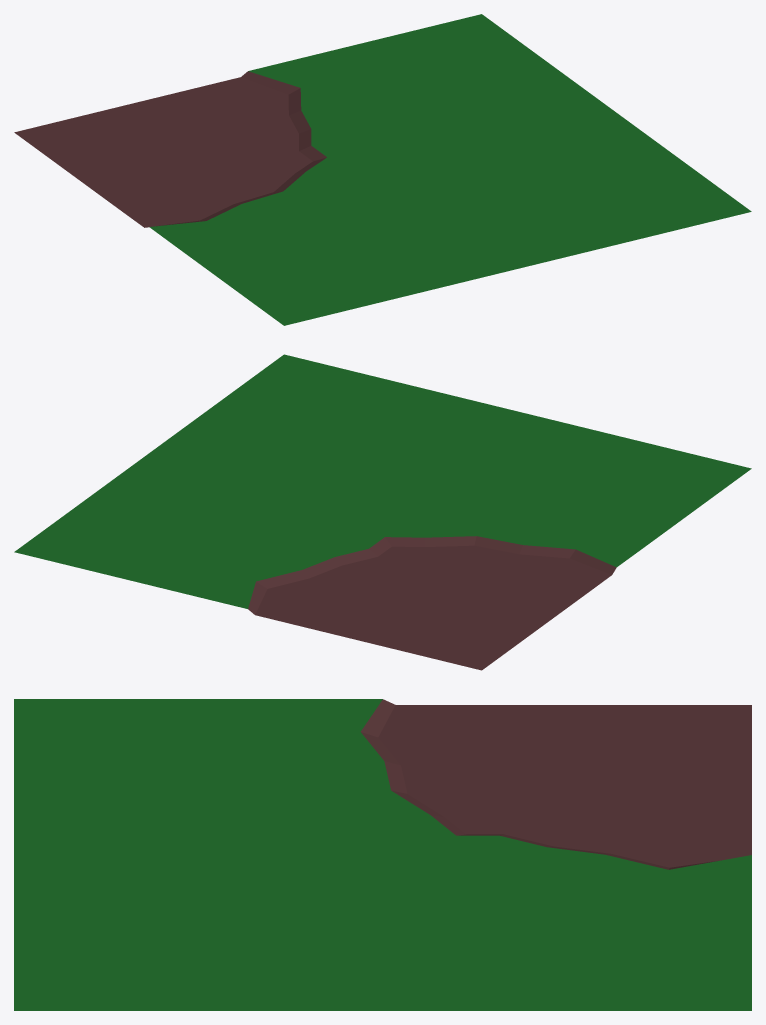
The model's file is Cesped_Barro_Esquina.fbx.
3 views of the same model, one above another, from view 1: azimuth 30°, elevation 25°; view 2: azimuth 150°, elevation 25°; view 3: azimuth 270°, elevation 25° (orthographic). The views are drawn at different scales.
Visible parts, largest first — view 1: Cesped_Barro_Esquina; view 2: Cesped_Barro_Esquina; view 3: Cesped_Barro_Esquina.
Boxes of the visible parts, x1,y1,x2,y2 form: Cesped_Barro_Esquina: [14, 14, 751, 325]; Cesped_Barro_Esquina: [14, 354, 751, 670]; Cesped_Barro_Esquina: [14, 699, 751, 1010].
Bounding box in the file's own units: 2000 × 17.28 × 2000.
